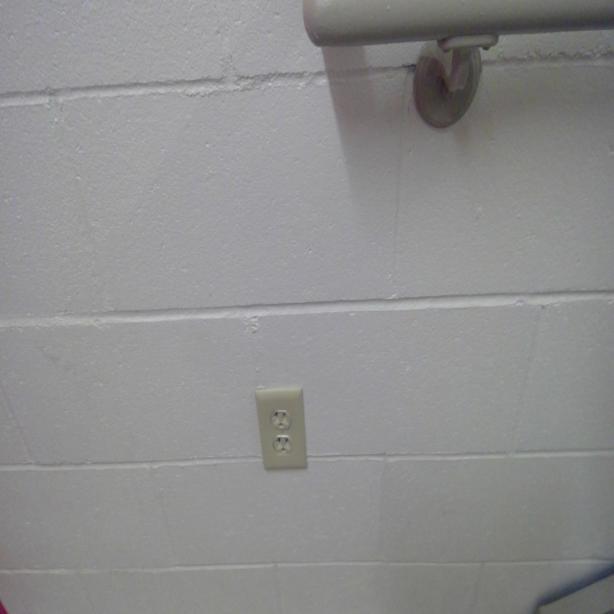typeb: (270, 406, 290, 432), (272, 436, 294, 457)
